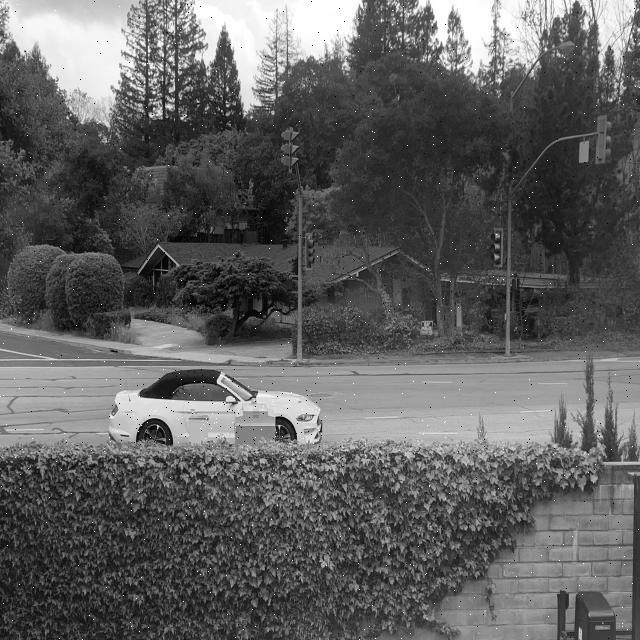Sedan: (108, 369, 322, 446)
